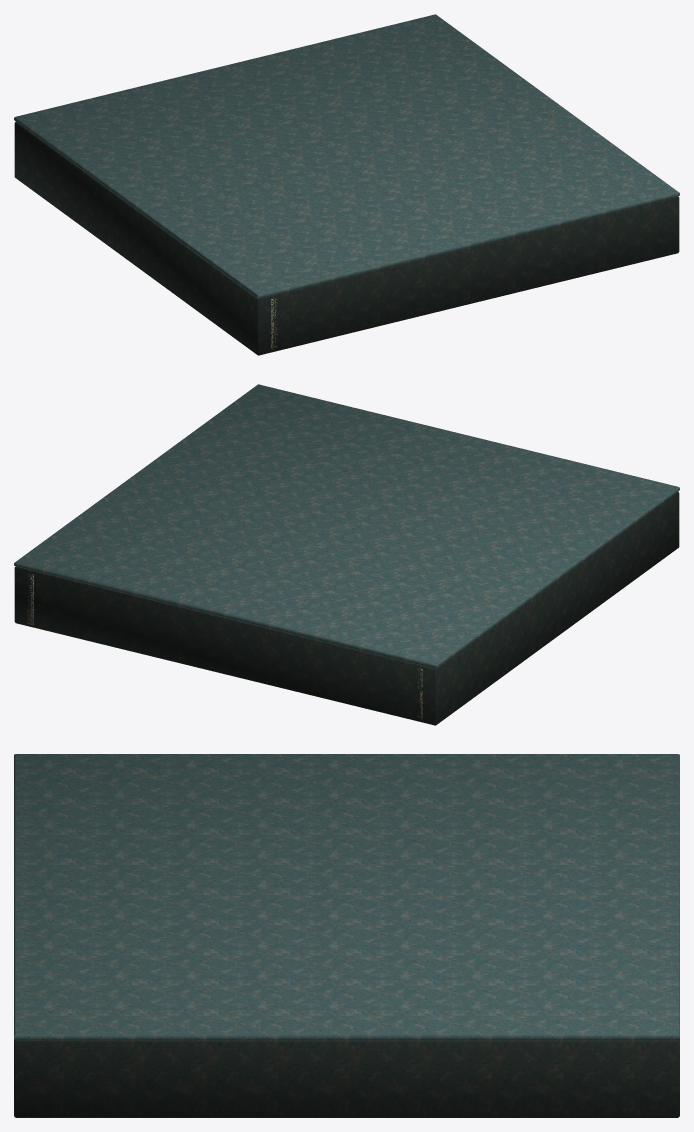
The model's file is barge_skin.glb.
The picture shows the model from 3 angles, top to bottom: view 1: azimuth 30°, elevation 25°; view 2: azimuth 150°, elevation 25°; view 3: azimuth 270°, elevation 25°; orthographic projection. The views are drawn at different scales.
Parts seen in each view (by area): view 1: HardwareSkin; view 2: HardwareSkin; view 3: HardwareSkin.
Boxes of the visible parts, x1,y1,x2,y2 form: HardwareSkin: (14, 14, 679, 355); HardwareSkin: (14, 384, 679, 725); HardwareSkin: (14, 754, 679, 1117).
Bounding box in the file's own units: 14 × 1.95 × 14.
1 material, 1 textured.
